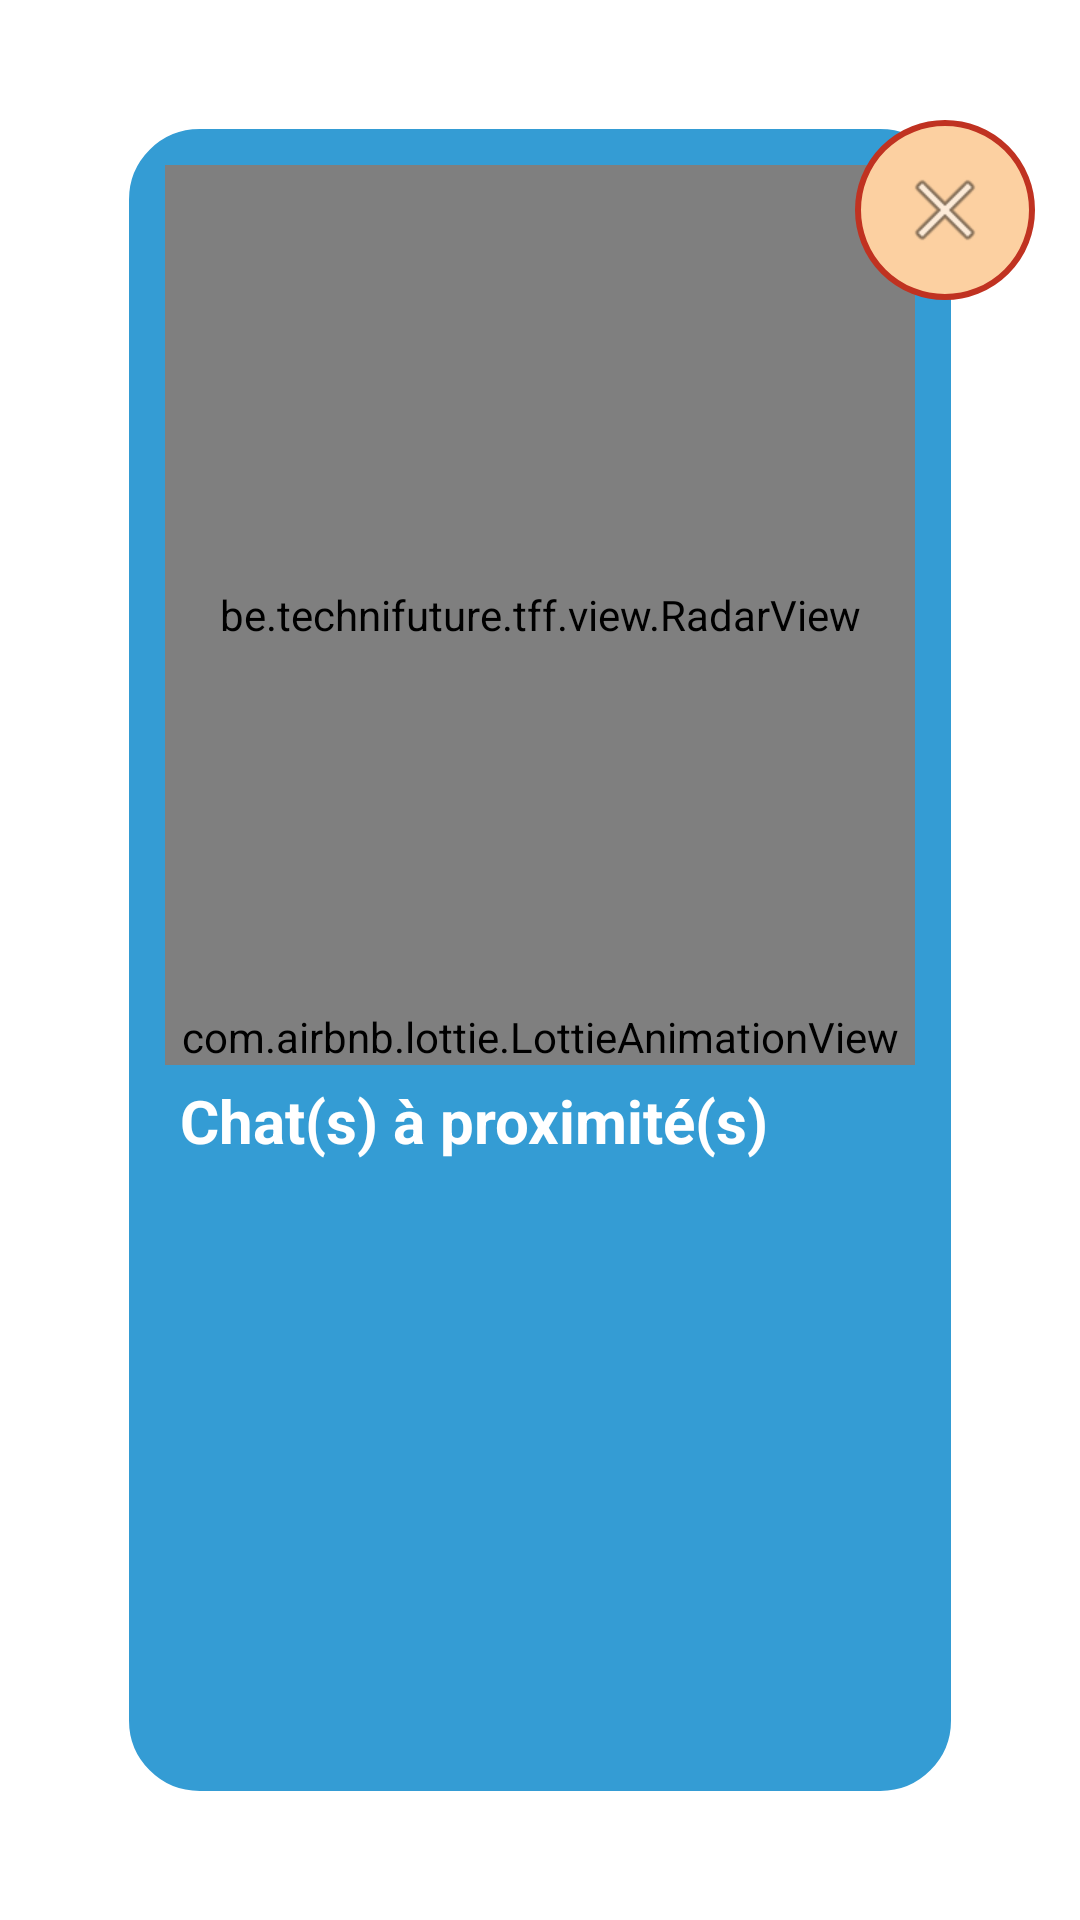

Where icons sit on this 1080px×1920px app screen, as region(x1, y1, x2, y2):
close clear cancel: region(855, 120, 1035, 300)
